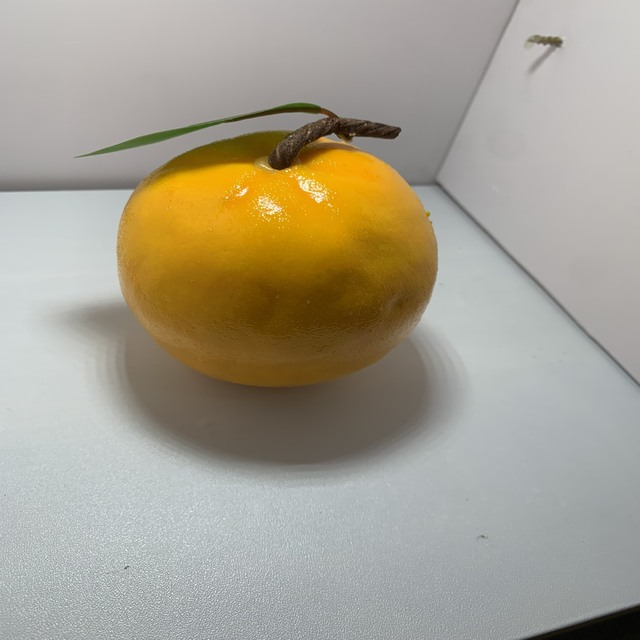Cam vang: (112, 117, 447, 393)
